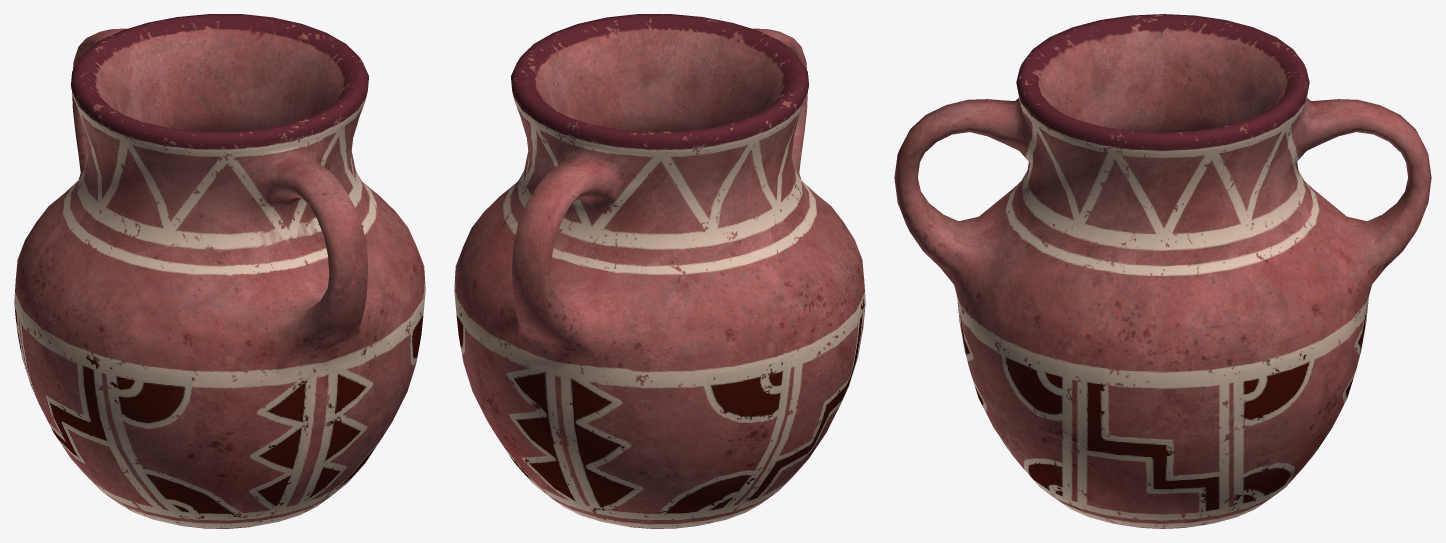
3 renders of one model, left to right at view 1: azimuth 30°, elevation 25°; view 2: azimuth 150°, elevation 25°; view 3: azimuth 270°, elevation 25°, orthographic.
Parts seen in each view (by area): view 1: aztec_vase_02__1__Clone__sh_3, aztec_vase_02__1__Clone__sh_2, aztec_vase_02__1__Clone__sh_1, aztec_vase_02__1__Clone__sh_4; view 2: aztec_vase_02__1__Clone__sh_4, aztec_vase_02__1__Clone__sh_3, aztec_vase_02__1__Clone__sh_5, aztec_vase_02__1__Clone__sh_1; view 3: aztec_vase_02__1__Clone__sh_1, aztec_vase_02__1__Clone__sh_3, aztec_vase_02__1__Clone__sh_5, aztec_vase_02__1__Clone__sh_4, aztec_vase_02__1__Clone__sh_2.
Boxes of the visible parts, left/top/right/bottom form: aztec_vase_02__1__Clone__sh_3: left=21, top=14, right=366, bottom=512; aztec_vase_02__1__Clone__sh_2: left=128, top=362, right=410, bottom=528; aztec_vase_02__1__Clone__sh_1: left=316, top=33, right=425, bottom=390; aztec_vase_02__1__Clone__sh_4: left=14, top=28, right=126, bottom=487; aztec_vase_02__1__Clone__sh_4: left=483, top=132, right=809, bottom=527; aztec_vase_02__1__Clone__sh_3: left=509, top=14, right=865, bottom=503; aztec_vase_02__1__Clone__sh_5: left=454, top=215, right=697, bottom=528; aztec_vase_02__1__Clone__sh_1: left=467, top=15, right=629, bottom=237; aztec_vase_02__1__Clone__sh_1: left=895, top=116, right=1259, bottom=447; aztec_vase_02__1__Clone__sh_3: left=894, top=14, right=1308, bottom=256; aztec_vase_02__1__Clone__sh_5: left=1104, top=255, right=1350, bottom=528; aztec_vase_02__1__Clone__sh_4: left=1276, top=67, right=1431, bottom=393; aztec_vase_02__1__Clone__sh_2: left=957, top=298, right=1130, bottom=520.
Size of the model in its own units: 462 by 517 by 602.
Materials: 1 (1 with a texture image).
